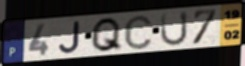4: (27, 22, 51, 58)
7: (192, 8, 219, 46)
C: (123, 13, 154, 51)
J: (58, 20, 82, 55)
Q: (89, 16, 124, 54)
U: (159, 10, 189, 48)
